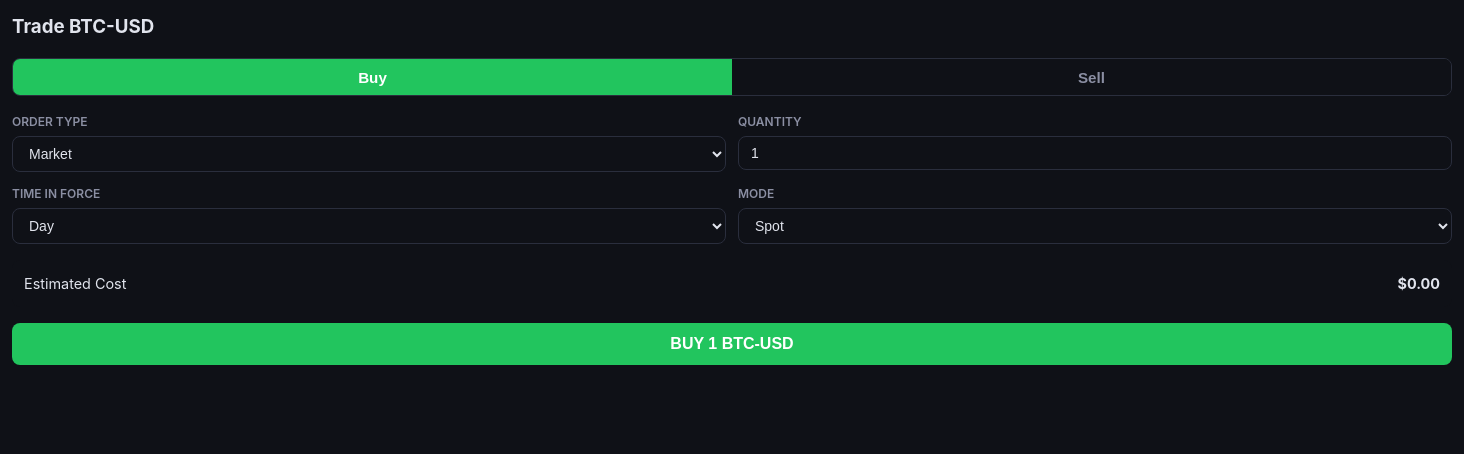
Test: OrderEntry - Kraken broker › shows leverage options when margin mode selected
Select "Margin" in the dropdown labelled "Mode" at coordinates (1095, 226), box [738,208,1452,244]
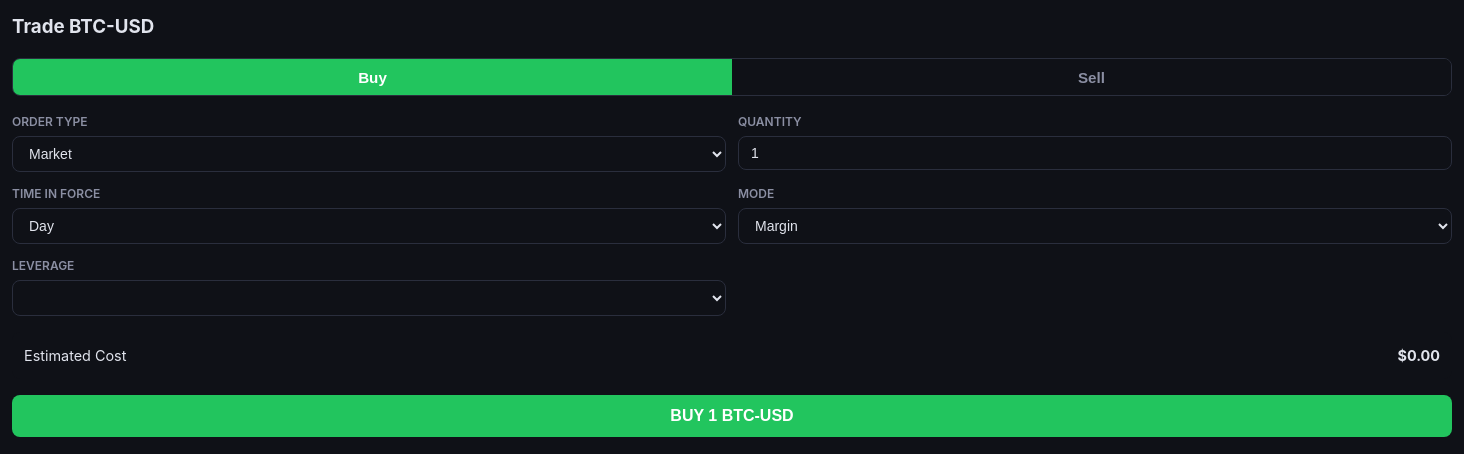
Expected: the dropdown labelled "Leverage" is shown, [12,280,726,316]
